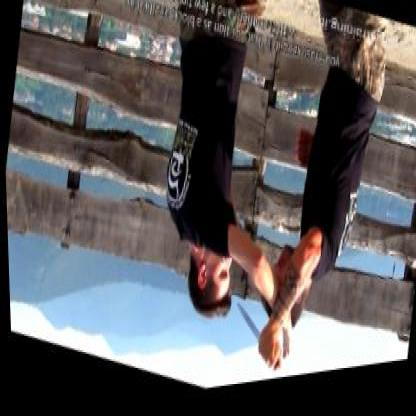knife: (225, 301, 286, 391)
